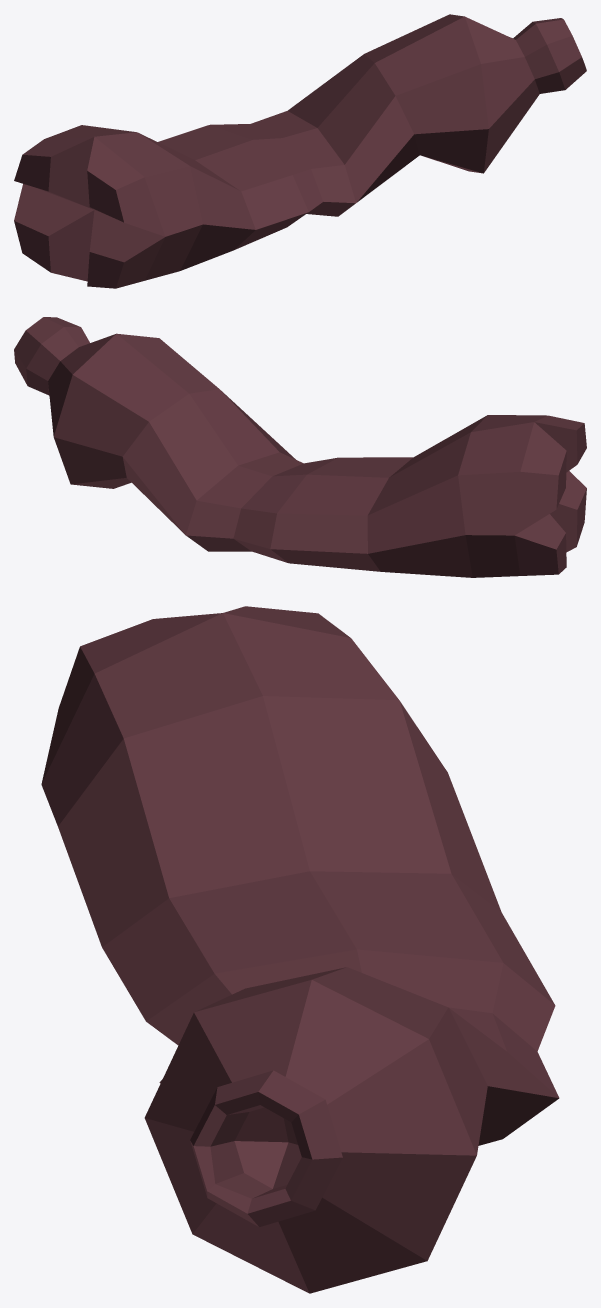
File: water-bottle-crushed.fbx
3 renders of one model, top to bottom at view 1: azimuth 30°, elevation 25°; view 2: azimuth 150°, elevation 25°; view 3: azimuth 270°, elevation 25°, orthographic. The views are drawn at different scales.
Parts seen in each view (by area): view 1: water-bottle-crushed; view 2: water-bottle-crushed; view 3: water-bottle-crushed.
Boxes of the visible parts, x1=… form: water-bottle-crushed: x1=14, y1=14, x2=586, y2=288; water-bottle-crushed: x1=14, y1=317, x2=586, y2=577; water-bottle-crushed: x1=41, y1=606, x2=559, y2=1293.
Bounding box in the file's own units: 0.4942 × 0.1376 × 0.2017.
